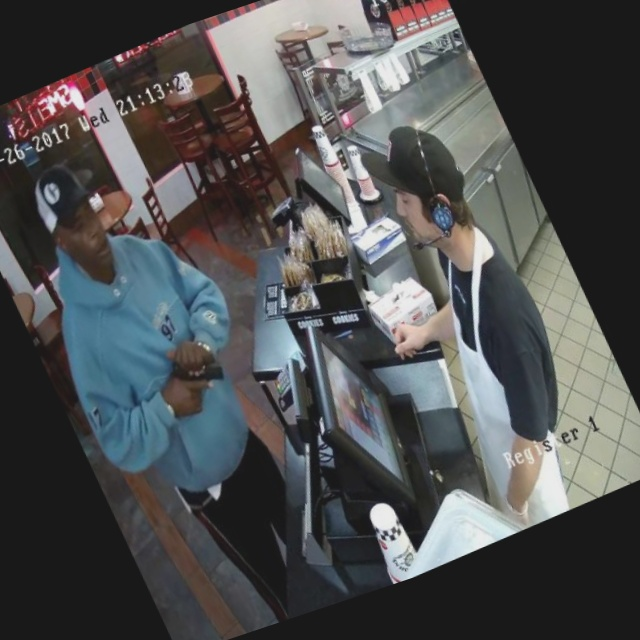gun: (144, 323, 244, 413)
